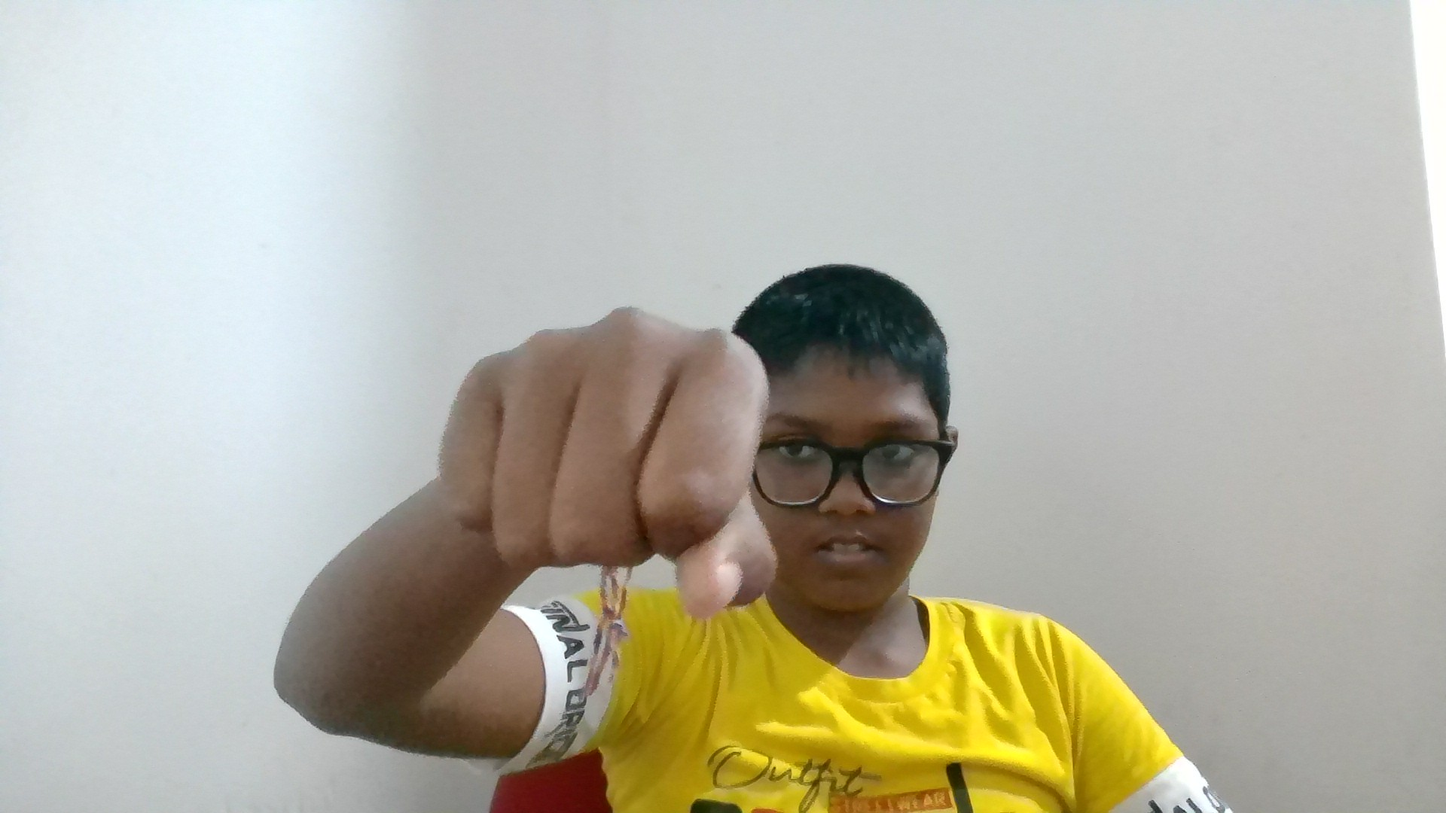Yes: (390, 245, 816, 649)
